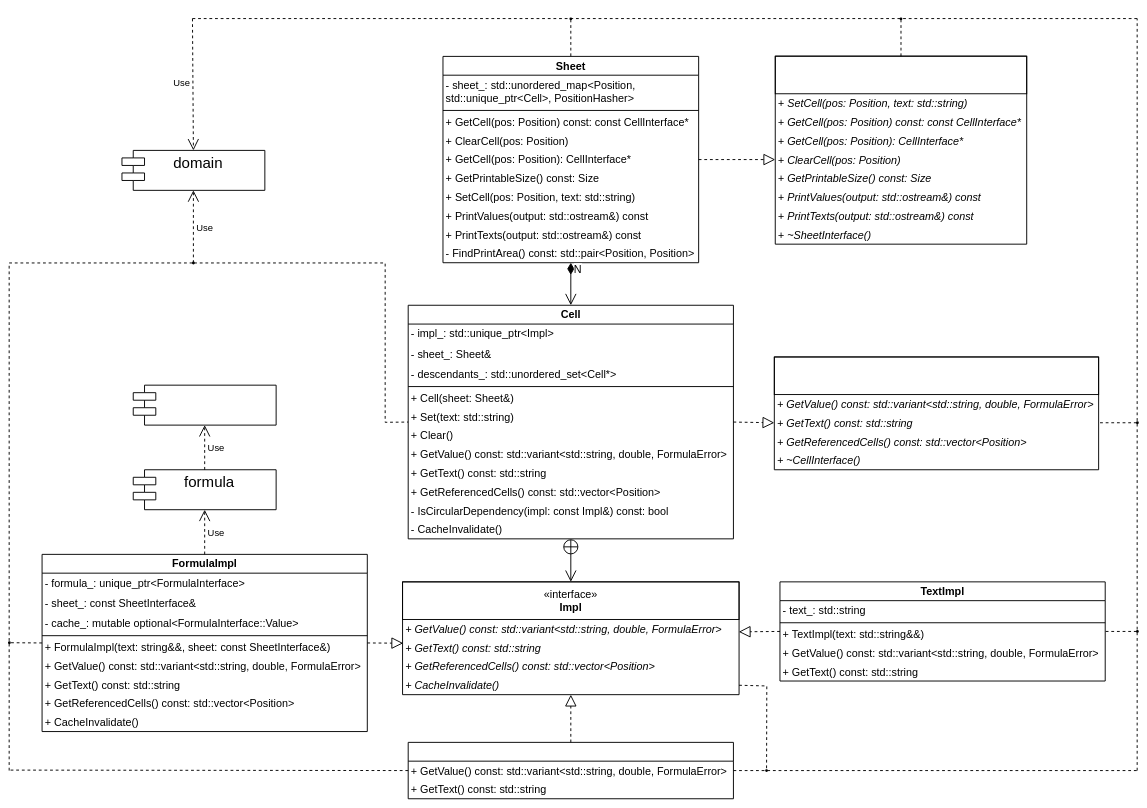
Some shapes in this 1147 by 808 pixel diagram are drawn without their labels. Here are the shapes that lost their labels. From the top down, the box of each, then its label:
(775, 55, 1027, 94): «interface» SheetInterface
(774, 356, 1099, 395): «interface» CellInterface
(133, 384, 276, 425): ANTLR4
(407, 742, 734, 799): EmptyImpl
